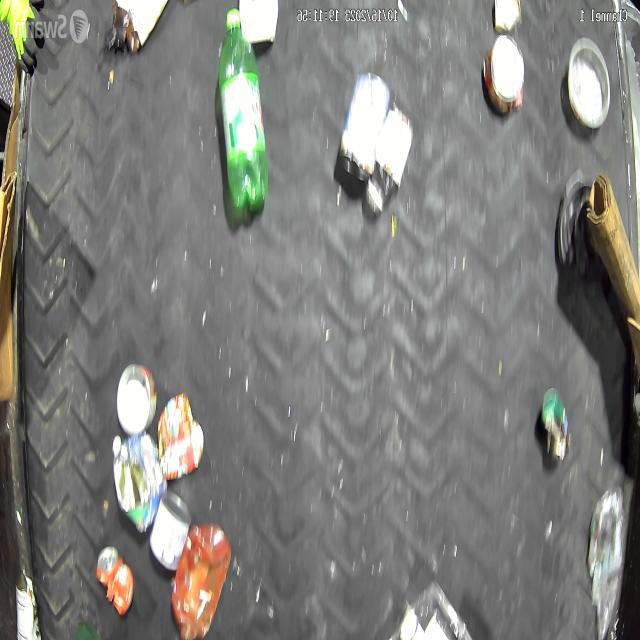can: (337, 70, 391, 186), (482, 31, 526, 119), (148, 487, 191, 576), (113, 360, 158, 435), (95, 543, 135, 617), (14, 570, 41, 640)
non_white_jug: (171, 518, 232, 640)
plastic_bottle: (217, 8, 268, 210), (588, 484, 624, 640)
